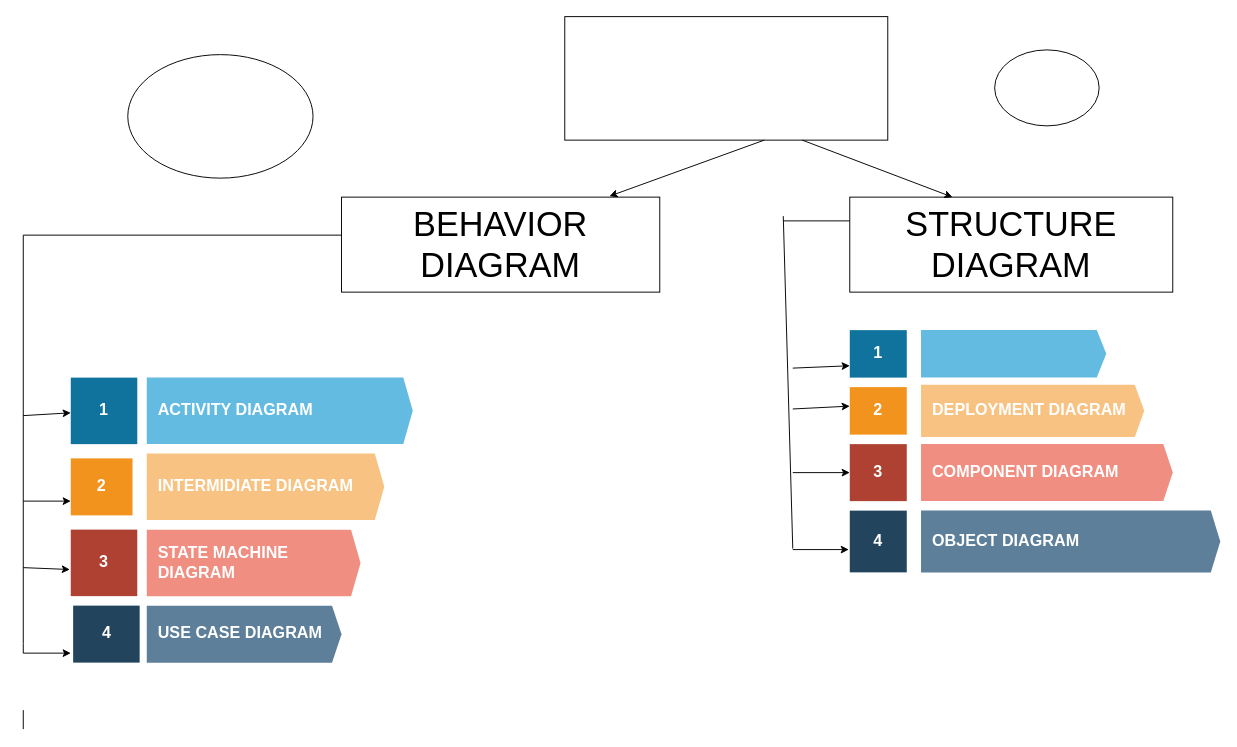
Image size: 1237x747. Some labels were removed from this diagram. The centre of each missing label's shape, as x and y in pixels:
CLASS DIAGRAM: point (1013, 353)
DYNAMIC: point (220, 116)
STATIC: point (1046, 87)
UML DIAGRAM: point (726, 78)
